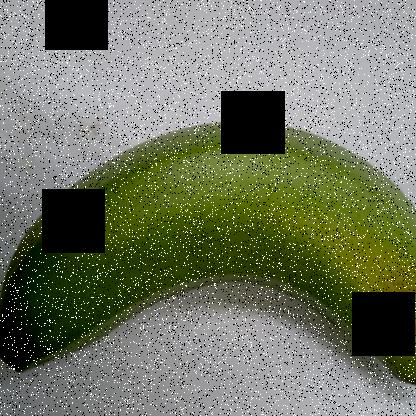freshunripe: (0, 100, 415, 413)
